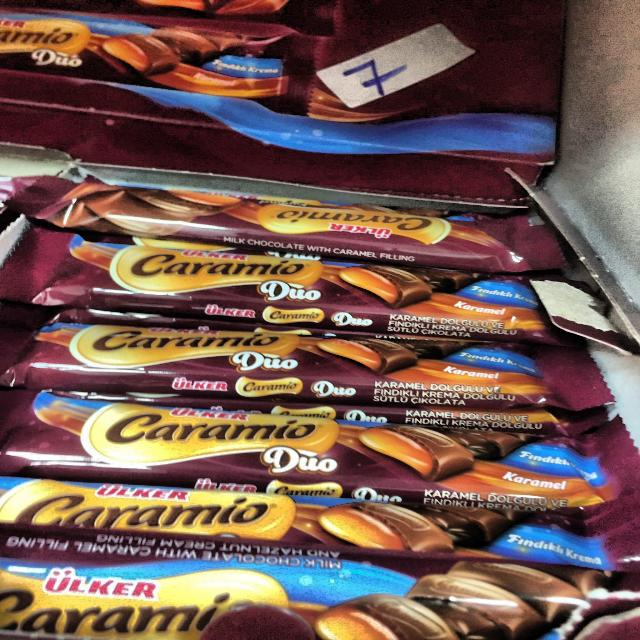Plastic: (0, 470, 636, 596), (6, 397, 627, 511), (6, 327, 603, 422), (13, 246, 543, 342), (39, 177, 545, 274)
